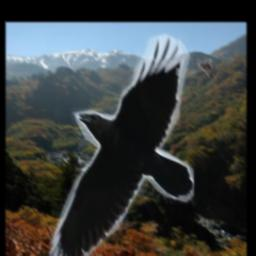Crow: (49, 34, 194, 256), (197, 59, 214, 78)
